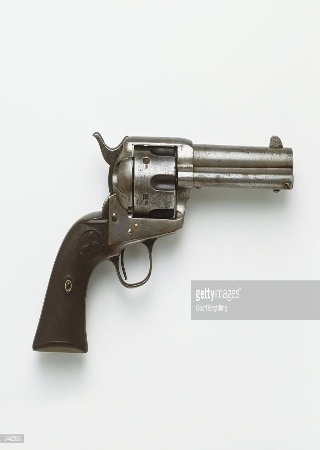handgun: (38, 128, 295, 353)
